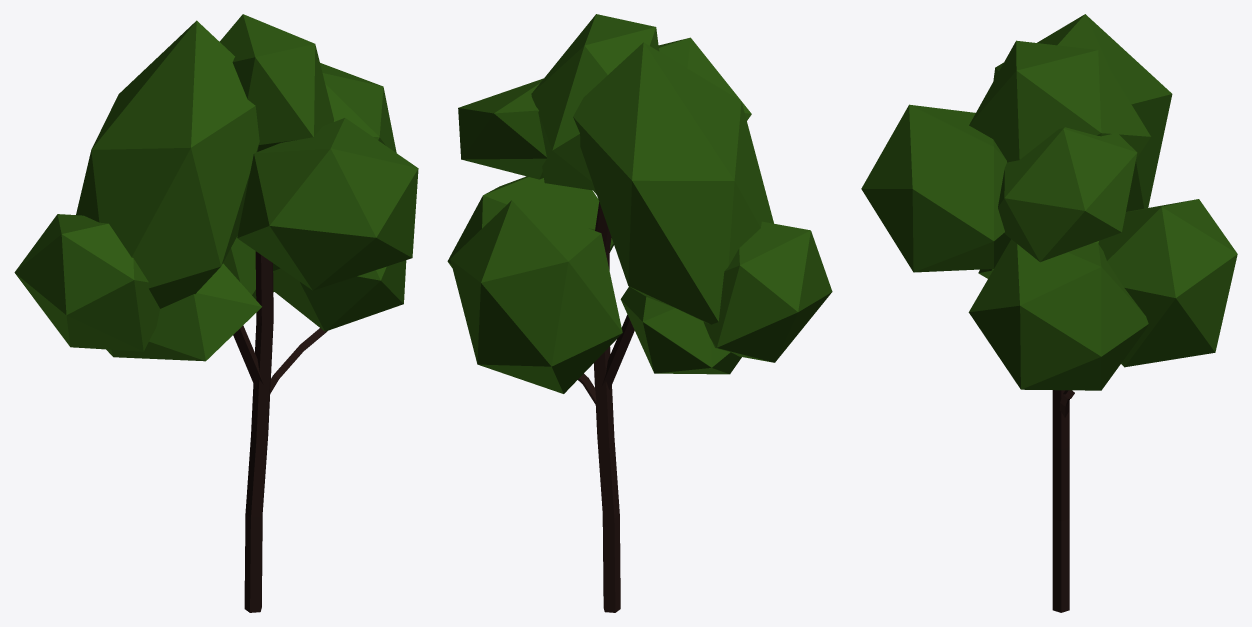
File: SM_tree_a_03.FBX
3 views of the same model, side by side, from view 1: azimuth 30°, elevation 25°; view 2: azimuth 150°, elevation 25°; view 3: azimuth 270°, elevation 25° (orthographic). The views are drawn at different scales.
Visible parts, largest first — view 1: Object026; view 2: Object026; view 3: Object026.
Part boxes in pixels (x1,y1,x2,y2): Object026: (14, 14, 418, 612); Object026: (447, 14, 832, 612); Object026: (861, 14, 1237, 612).
Bounding box in the file's own units: 312 × 492 × 292.
